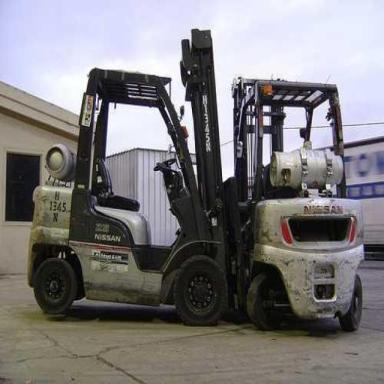forklift: (26, 29, 268, 324), (222, 74, 364, 329)
